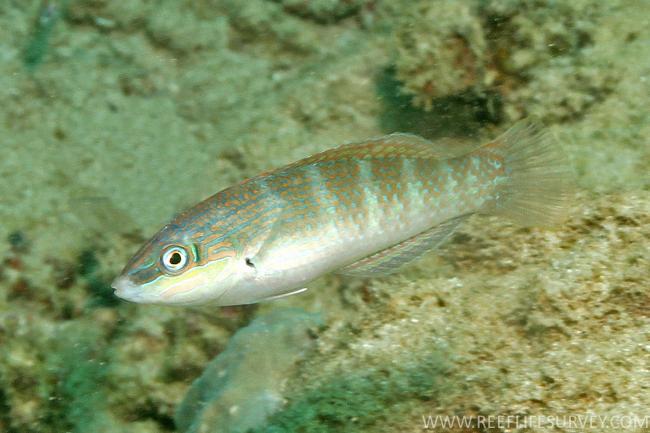fish: (110, 113, 570, 308)
